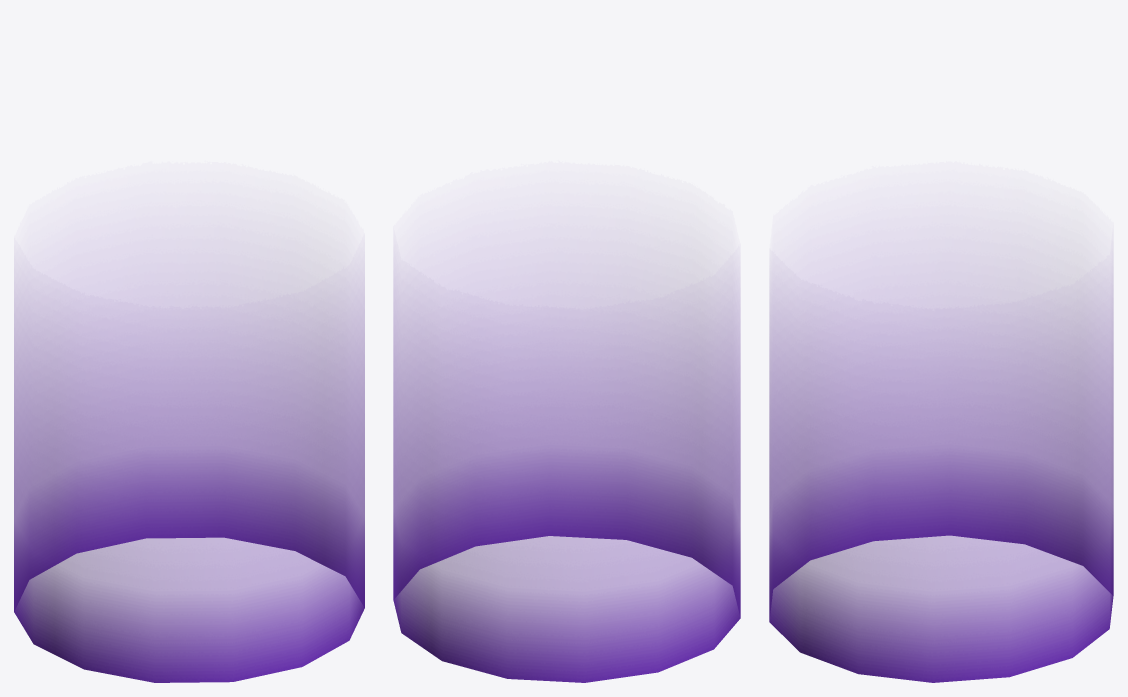
Rendered from teleporter.glb.
3 renders of one model, left to right at view 1: azimuth 30°, elevation 25°; view 2: azimuth 150°, elevation 25°; view 3: azimuth 270°, elevation 25°, orthographic.
Parts seen in each view (by area): view 1: TelepadField_cosmetic; view 2: TelepadField_cosmetic; view 3: TelepadField_cosmetic.
Part boxes in pixels (x1,y1,x2,y2): TelepadField_cosmetic: (14, 261, 364, 682); TelepadField_cosmetic: (393, 261, 740, 682); TelepadField_cosmetic: (769, 260, 1113, 682).
Bounding box in the file's own units: 1.19 × 1.96 × 1.17.
1 material, 1 textured.
